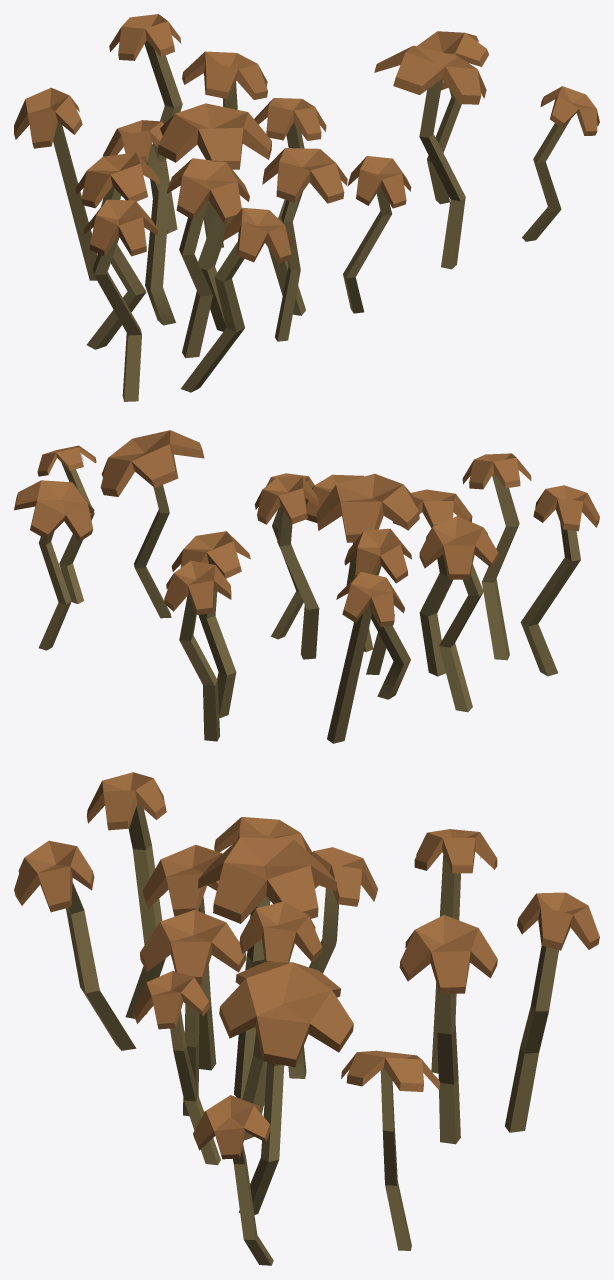
File: SM_Plant_Flowers_01.glb
3 renders of one model, top to bottom at view 1: azimuth 30°, elevation 25°; view 2: azimuth 150°, elevation 25°; view 3: azimuth 270°, elevation 25°, orthographic. The views are drawn at different scales.
Parts seen in each view (by area): view 1: SM_Plant_Flowers_01; view 2: SM_Plant_Flowers_01; view 3: SM_Plant_Flowers_01.
Part boxes in pixels (x1=…): SM_Plant_Flowers_01: x1=14, y1=14, x2=599, y2=401; SM_Plant_Flowers_01: x1=14, y1=430, x2=599, y2=743; SM_Plant_Flowers_01: x1=14, y1=772, x2=599, y2=1265.
Bounding box in the file's own units: 142 × 52.28 × 113.
Materials: 1 (1 with a texture image).
